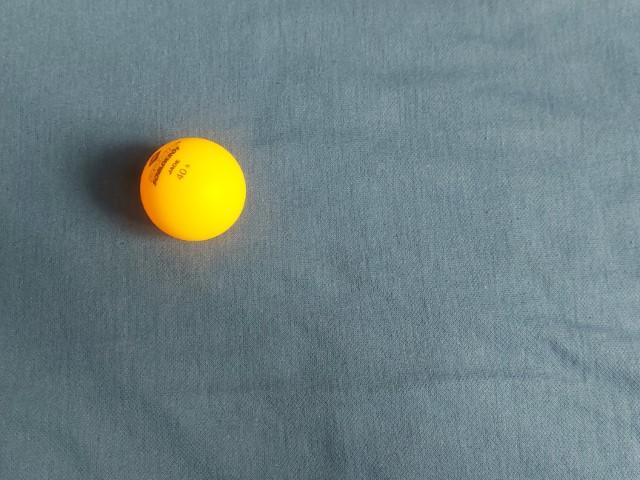oball: (389, 237, 500, 346)
